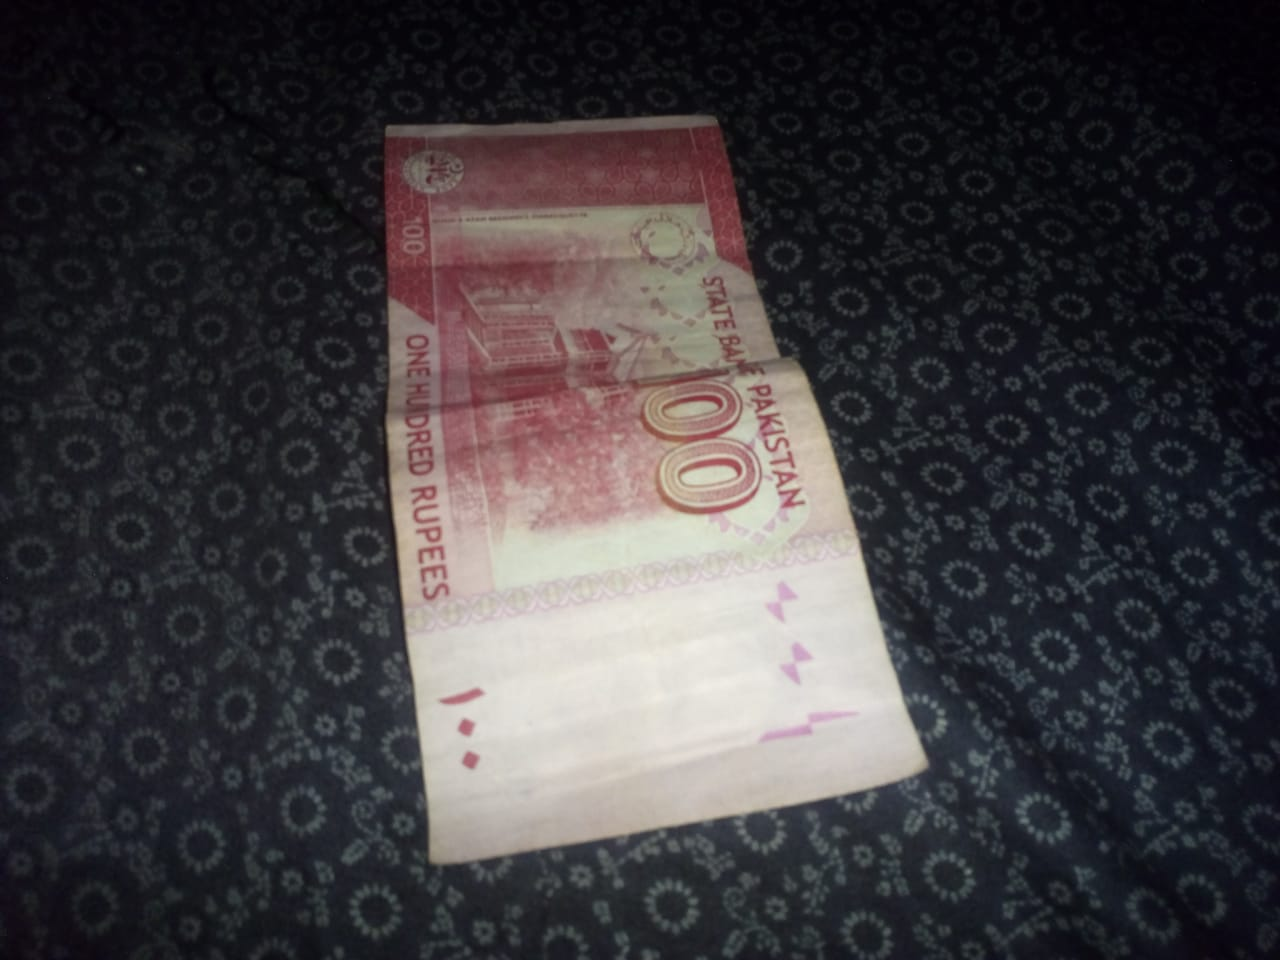100 rupee: (352, 80, 969, 903)
